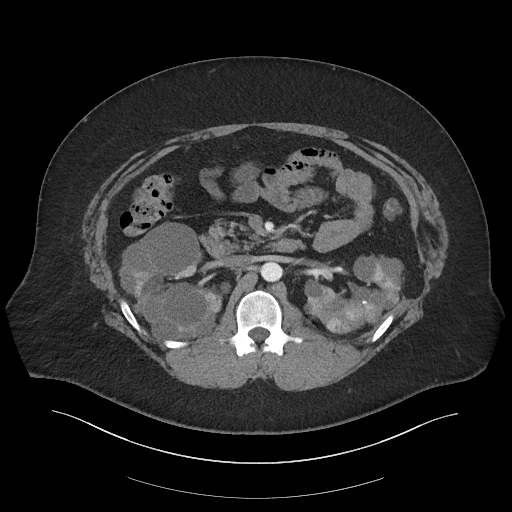Lesion: (326, 318, 344, 334)
